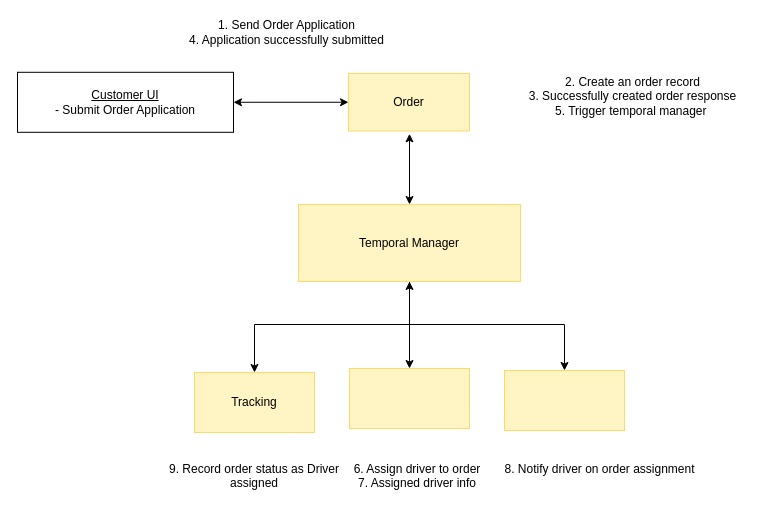
This 774x522 diagram has some shape labels left out. The shapes that lost their labels are listed below. From the top down, each one's centre as x and y in pixels, then its label:
[409,398]: Driver
[564,400]: Notification
